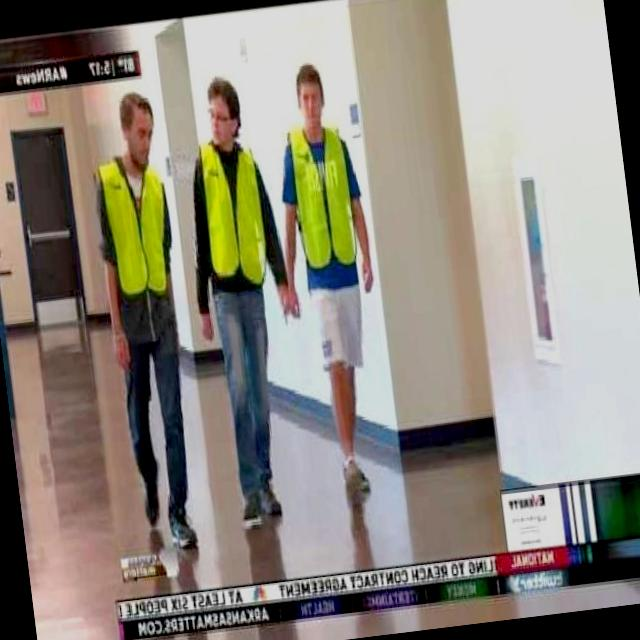vest: (281, 124, 368, 286), (190, 140, 275, 292), (92, 156, 176, 304)
